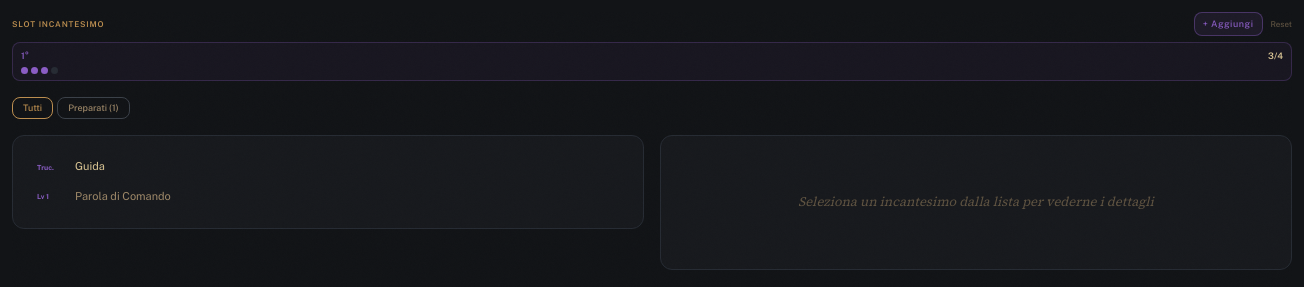
Scenario: SpellsTab › filters to only prepared spells
What coordinates should you click on to do the following:
click the button "Preparati (1)"
I would click on:
 (93, 108)
Its box is left=57, top=97, right=130, bottom=119.
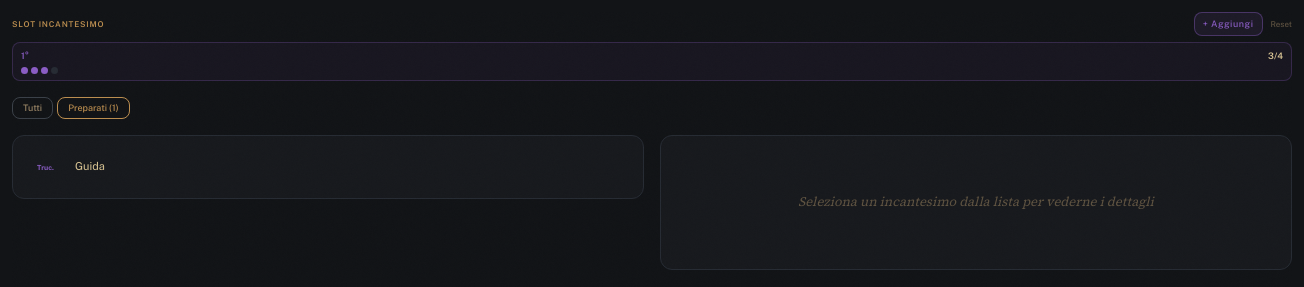
Check: the text "Guida" is shown, box left=75, top=160, right=105, bottom=172
Check: the button "Parola di Comando" is gone
